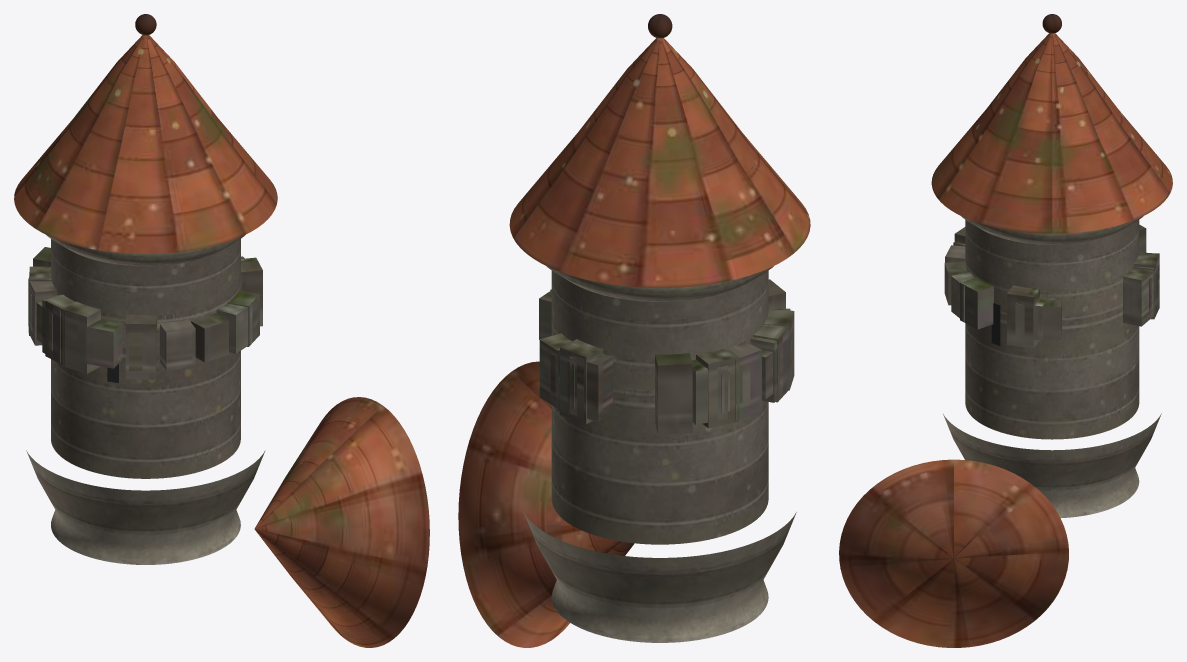
Rendered from starfort_sentry_box_hero.glb.
The picture shows the model from 3 angles, left to right: view 1: azimuth 30°, elevation 25°; view 2: azimuth 150°, elevation 25°; view 3: azimuth 270°, elevation 25°; orthographic projection. The views are drawn at different scales.
Parts seen in each view (by area): view 1: intact, breached; view 2: intact, breached; view 3: intact, breached.
Boxes of the visible parts, x1=… form: intact: x1=14, y1=14, x2=277, y2=564; breached: x1=28, y1=247, x2=429, y2=647; intact: x1=509, y1=14, x2=810, y2=642; breached: x1=458, y1=279, x2=794, y2=647; intact: x1=931, y1=14, x2=1172, y2=517; breached: x1=839, y1=224, x2=1159, y2=647.
Size of what is drawn, in the model's own units: 2.24 by 4.47 by 2.38.
1 material, 1 textured.
